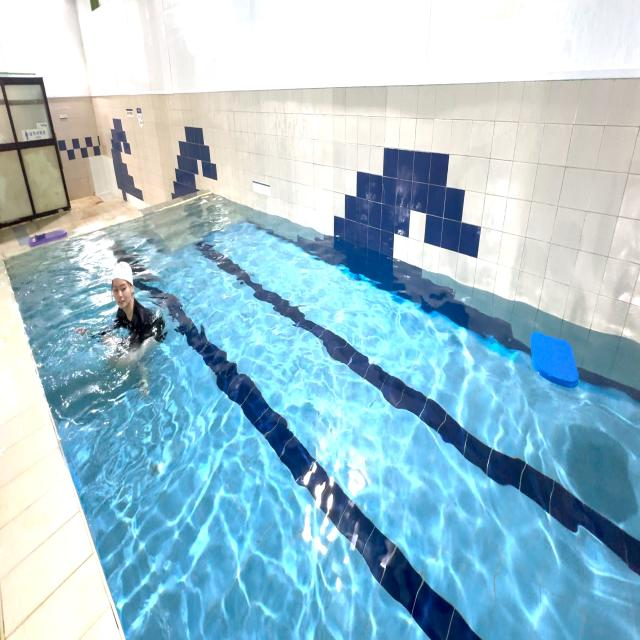Swimming: (75, 258, 167, 400)
